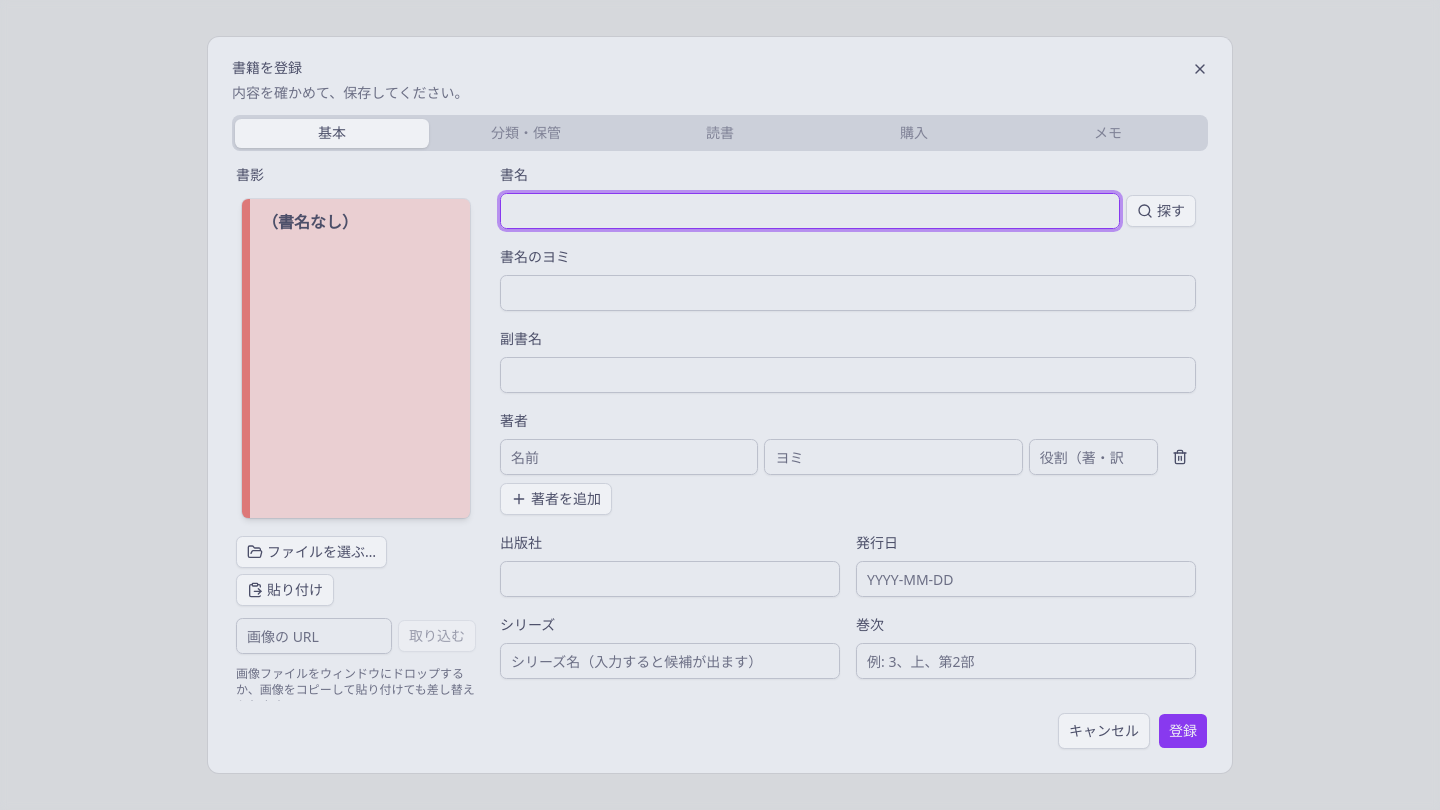
Test case: 登録・編集フォーム › new: 書名・著者のキーワード検索（探す） › 取得できなかったら、エラーを通知し、フォームは変えない
Type "こころ" into the field labelled "書名" at {"x": 810, "y": 211}, box [500,193,1120,229]
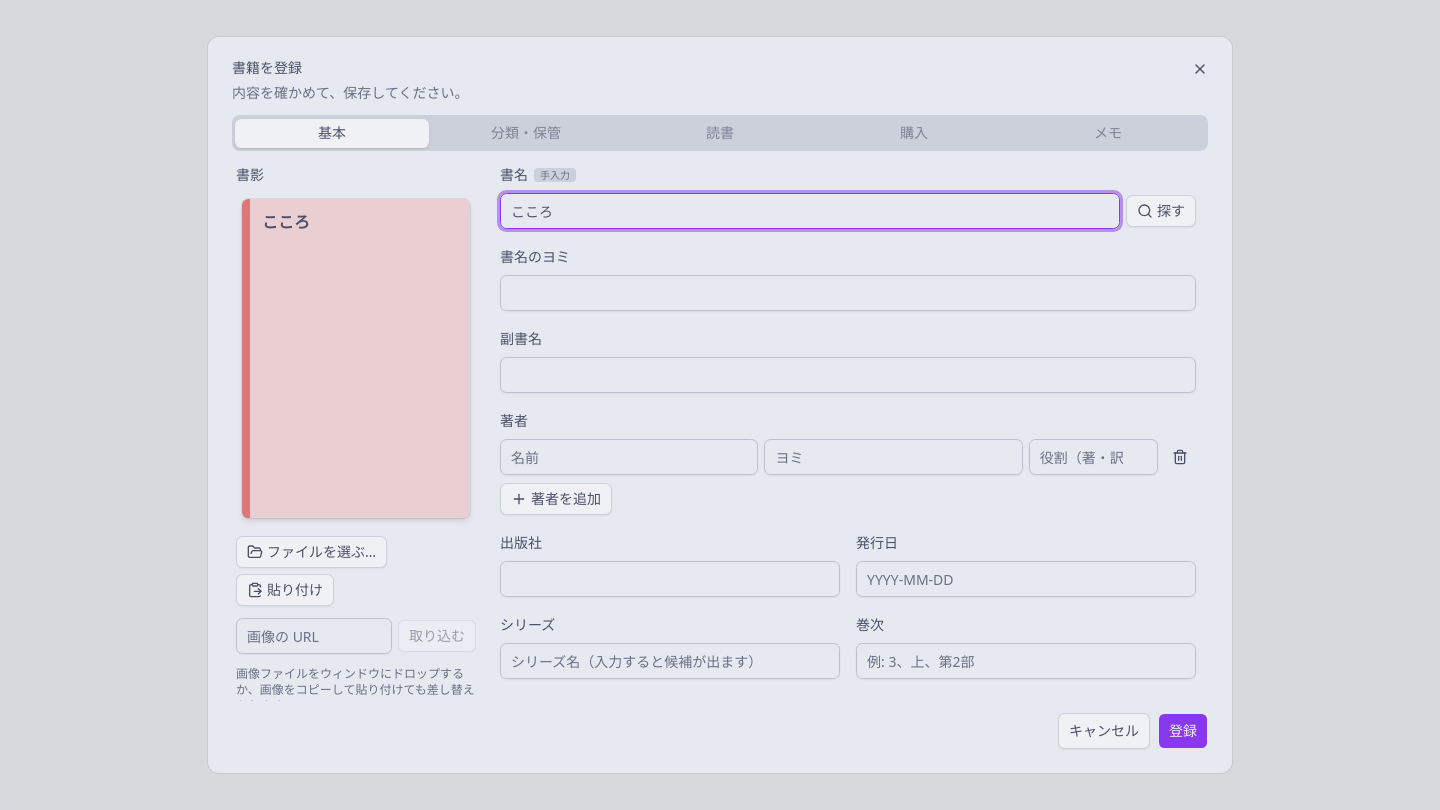
Click the button "探す" at {"x": 1161, "y": 211}, box [1126,195,1196,227]
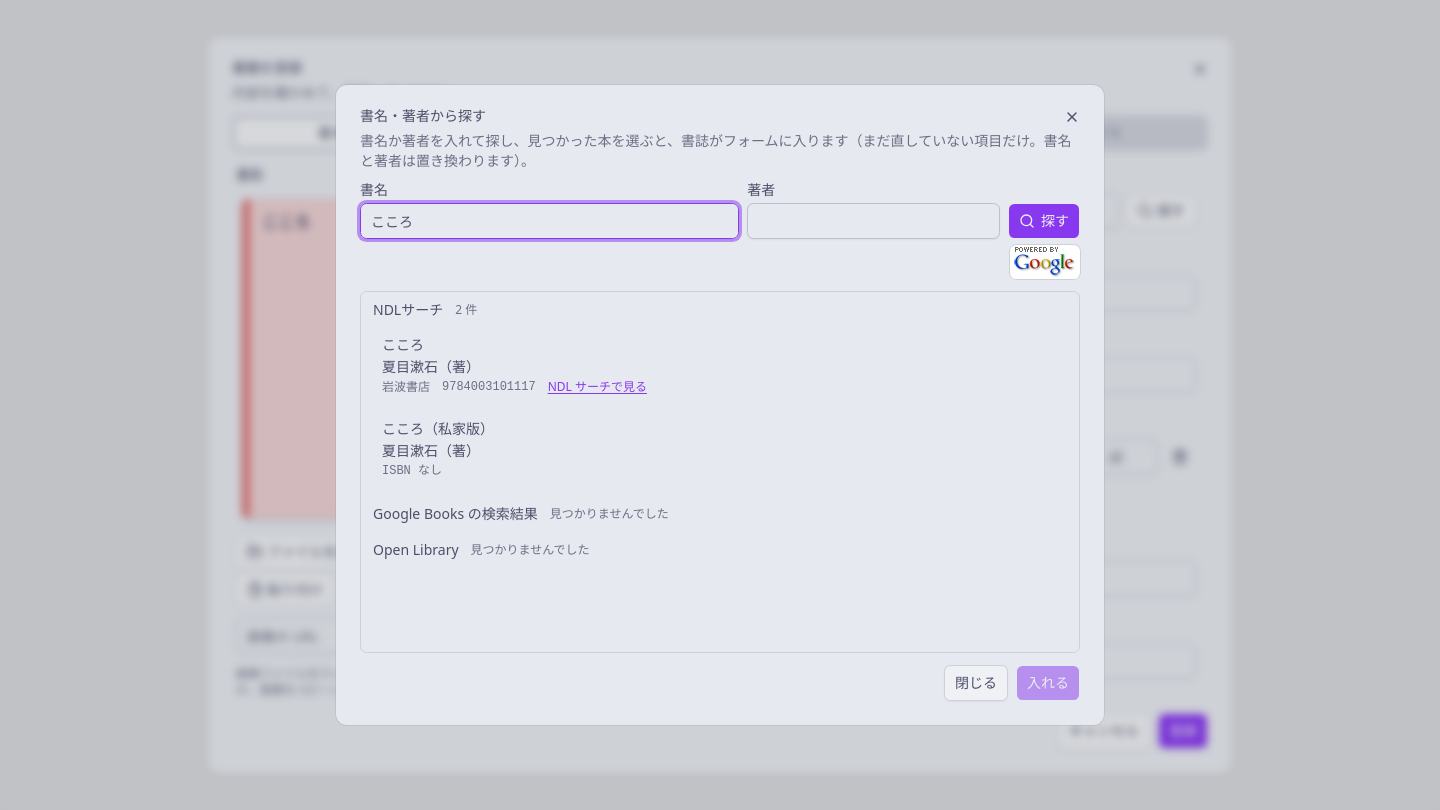
Expected: the number of options is 2
Double-click the option "こころ 夏目漱石（著） 岩波書店 9784003101117 NDL サーチで見る" at {"x": 403, "y": 344}, box [382,335,647,395]
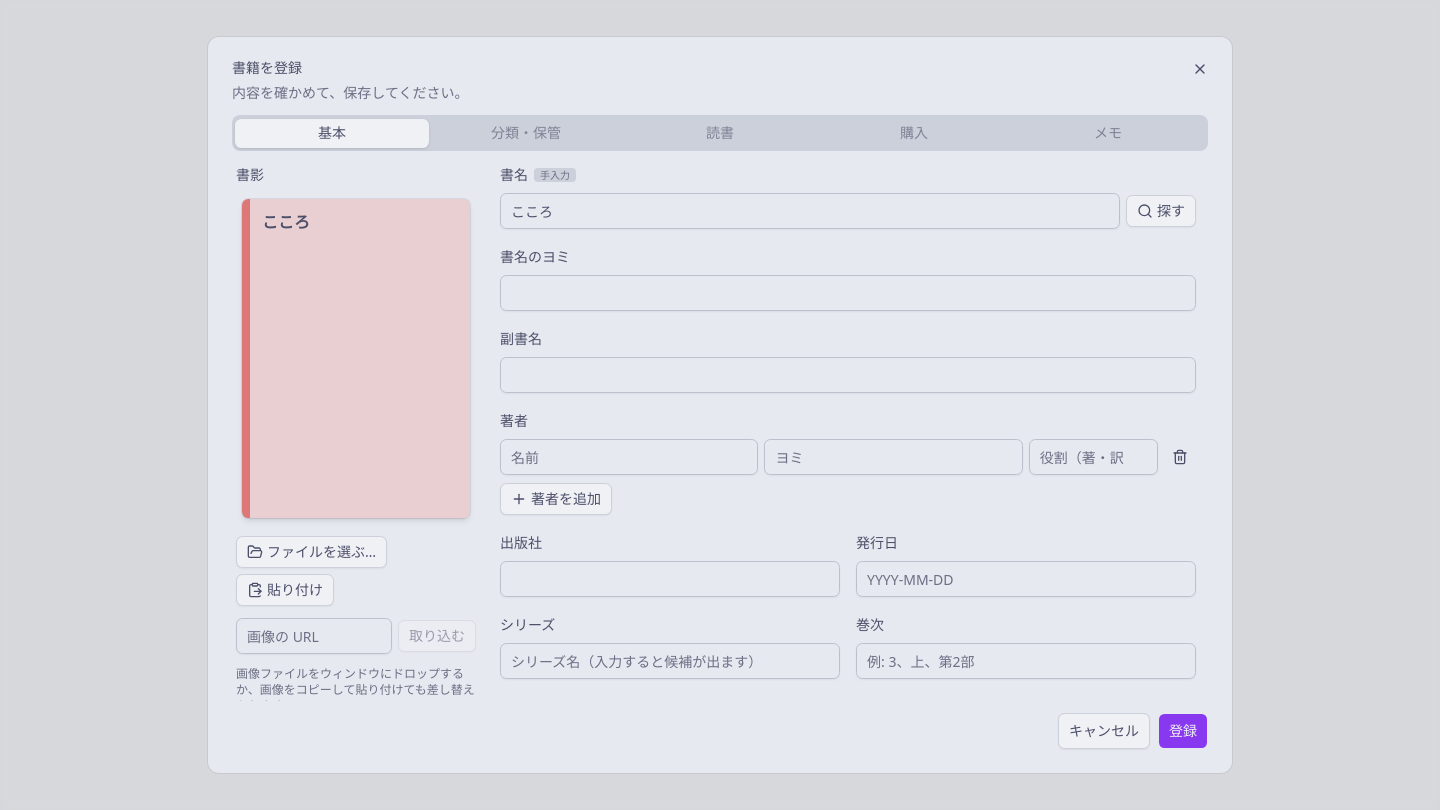
Expected: the heading "書名・著者から探す" is gone
